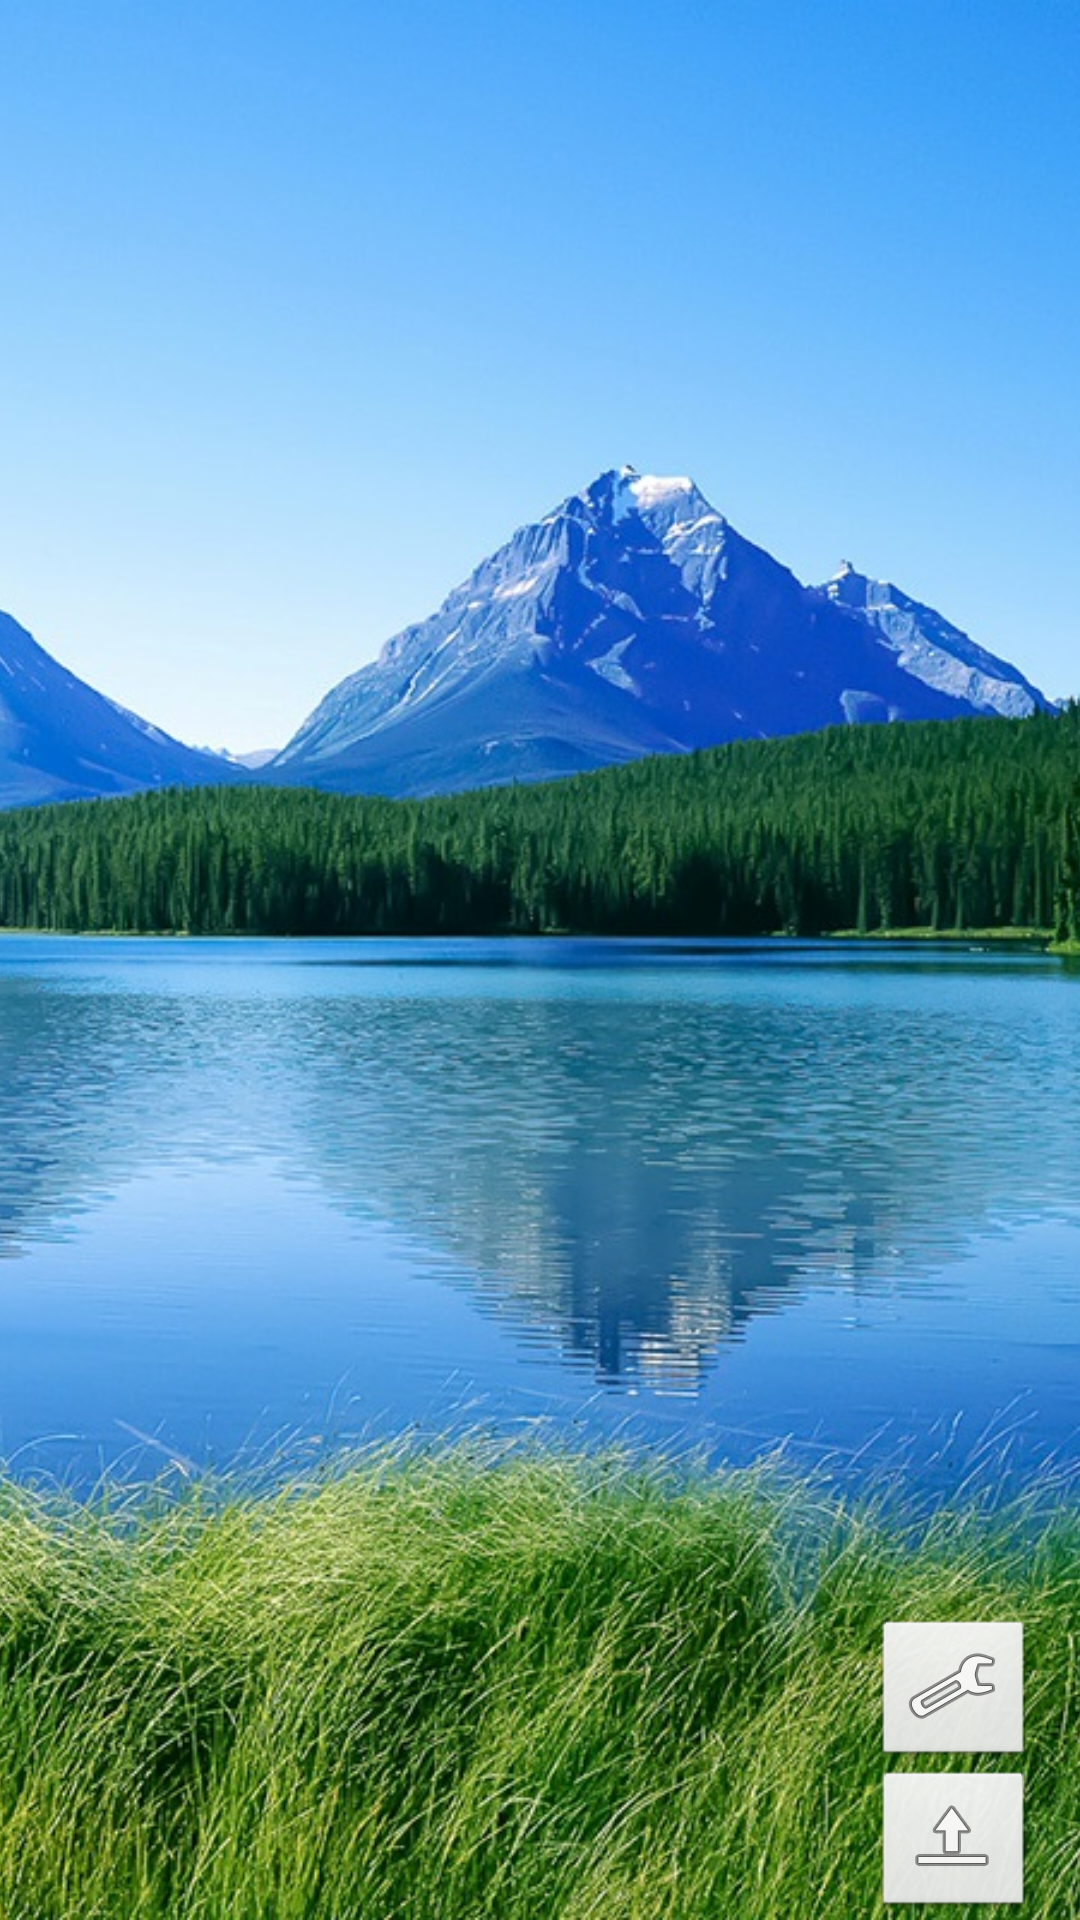

Where to tap for icons on this 1080px×1920px app screen, as point (x, y):
preferences: point (953, 1693)
upload: point (953, 1844)
